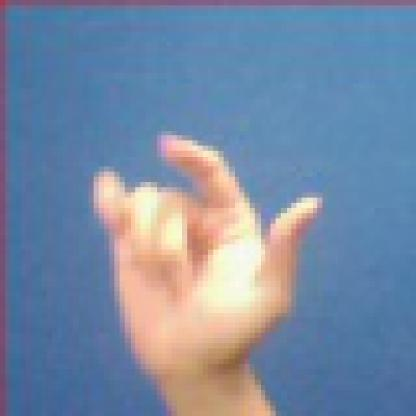six: (66, 116, 356, 396)
